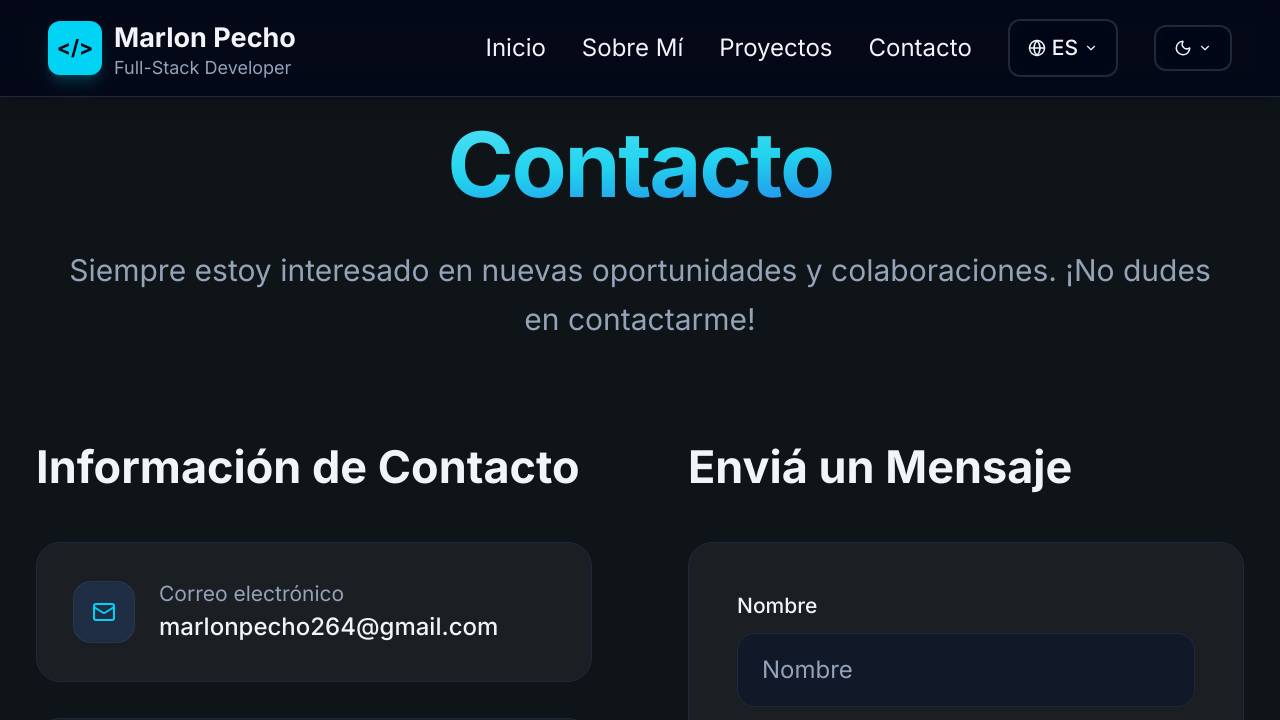
Test: Contact Form › muestra error si la API falla
In the field with id "name": (966, 670) [737,633,1195,707], type "Test User"
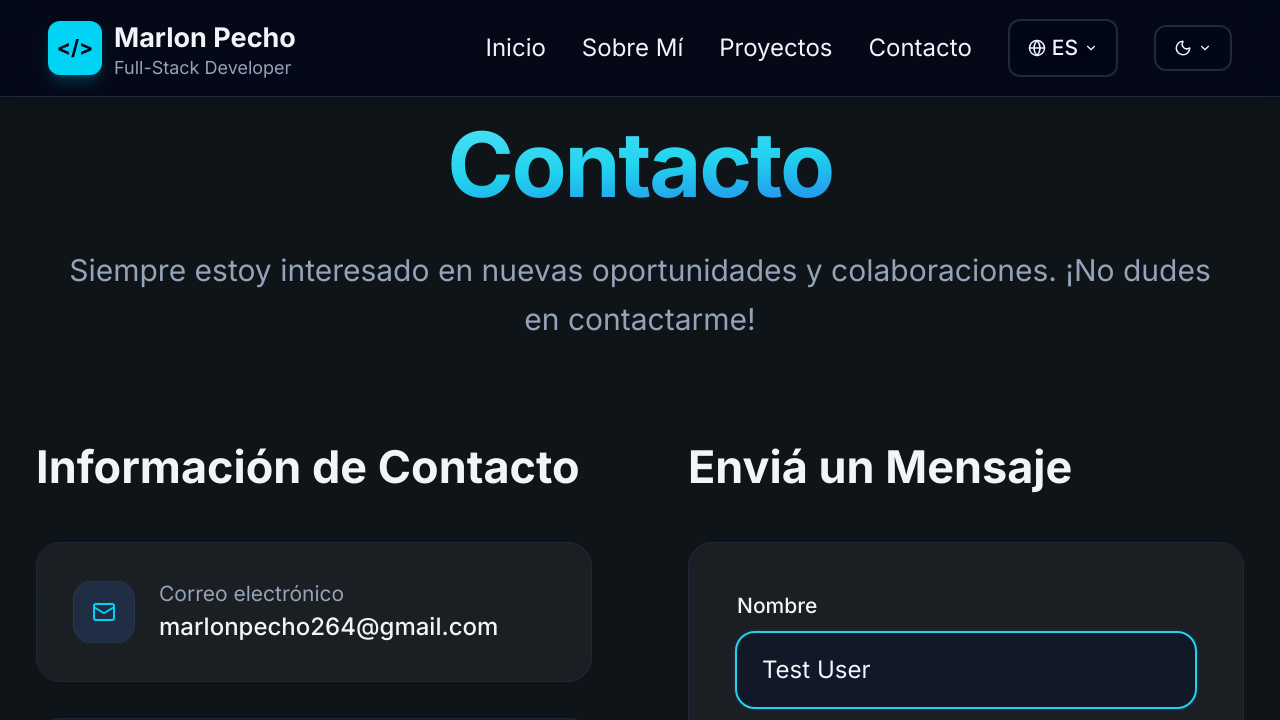
Scroll
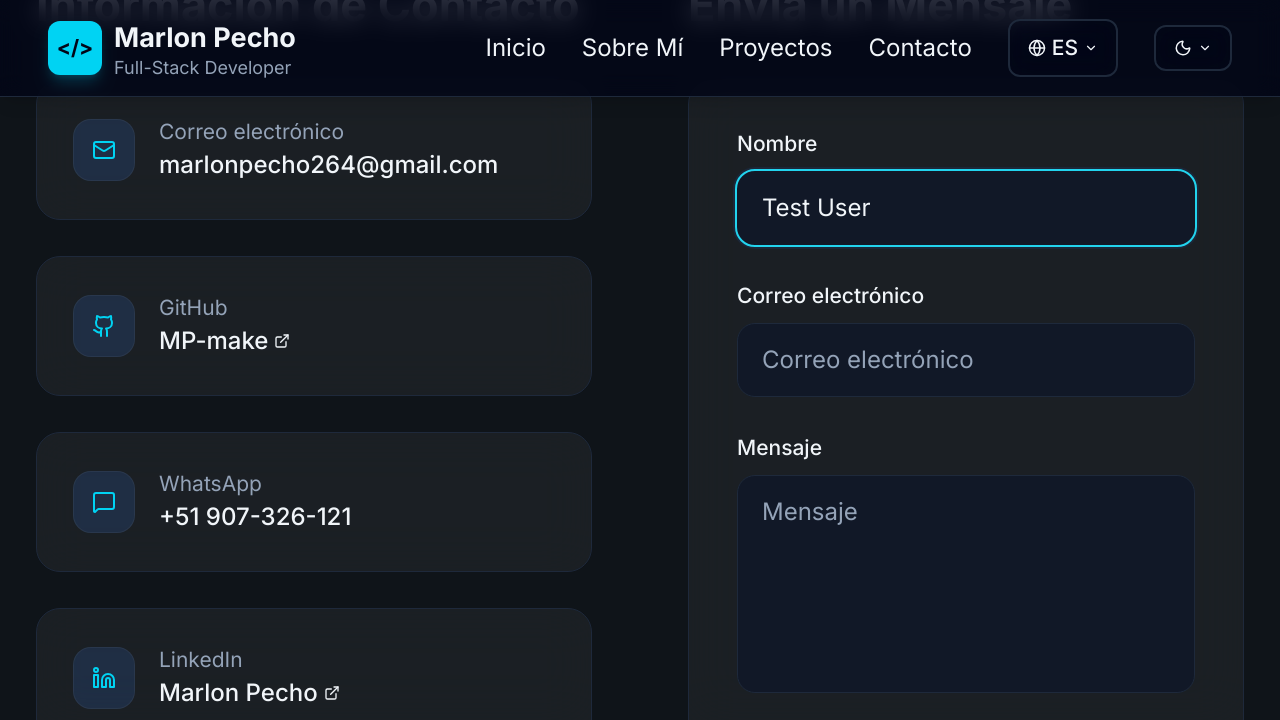
In the field with id "email": (966, 360) [737,323,1195,397], type "test@example.com"
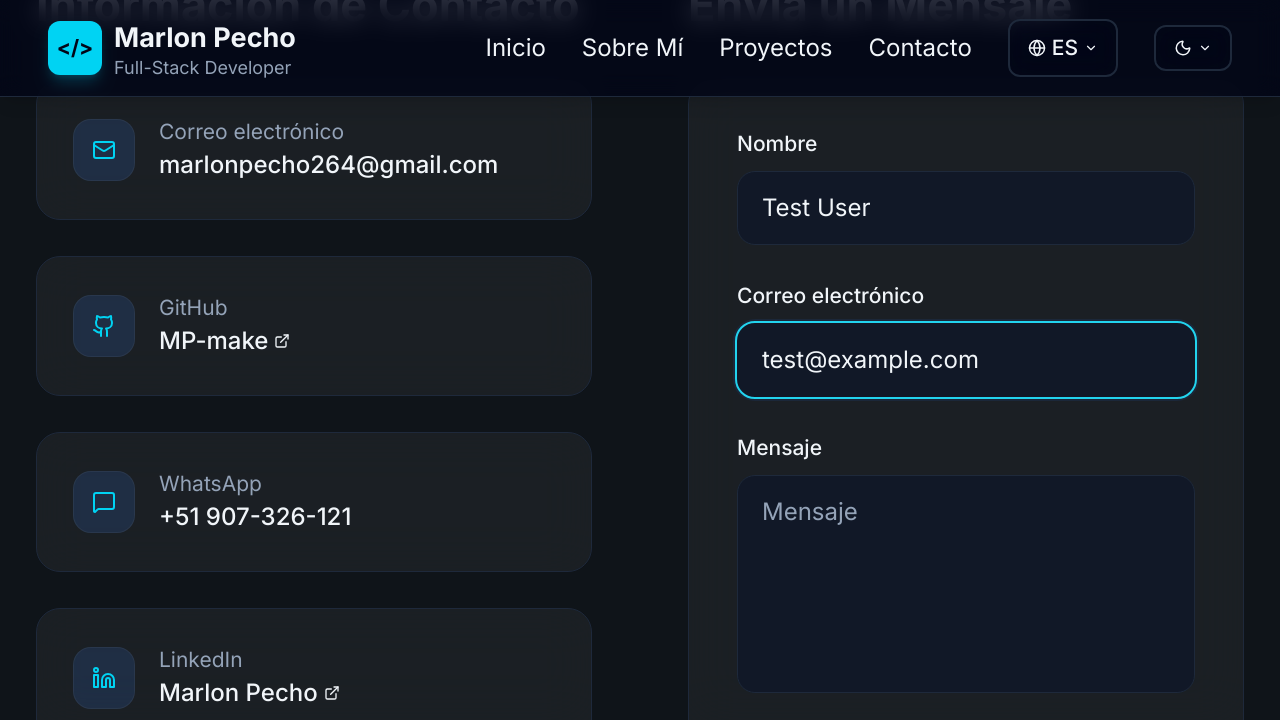
In the text box with id "message": (966, 584) [737,475,1195,693], type "Mensaje de prueba."
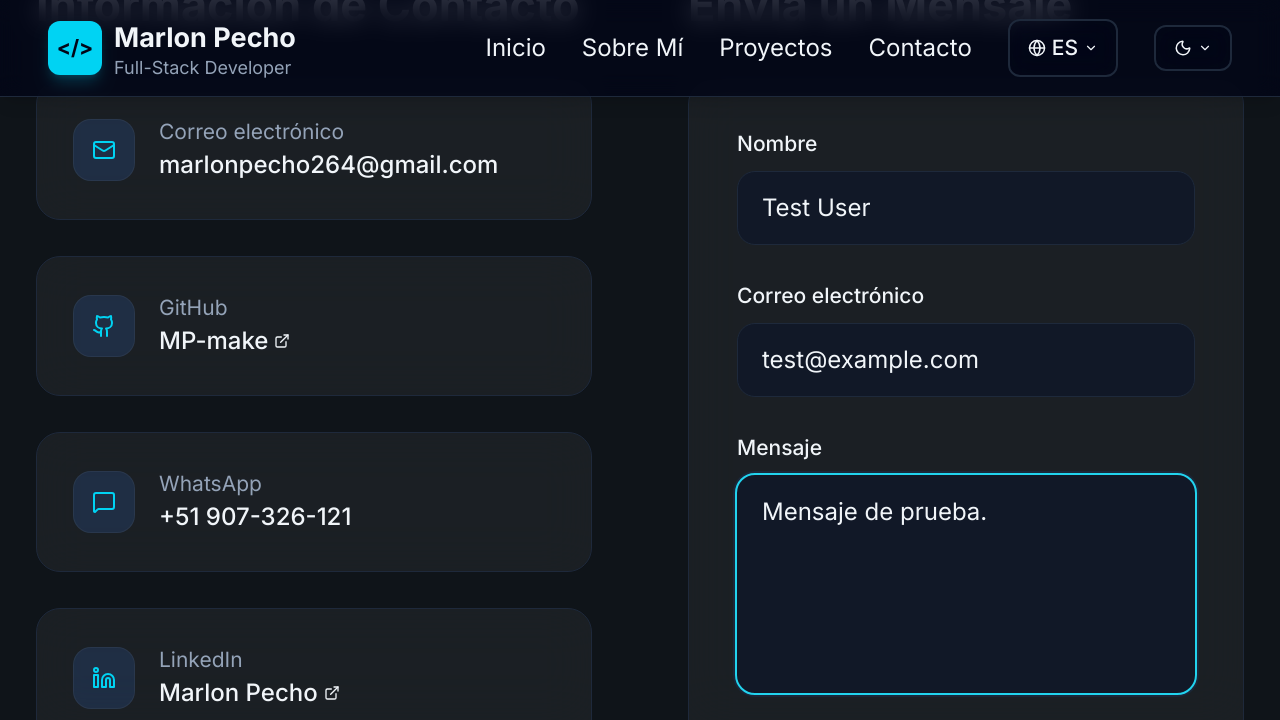
Scroll
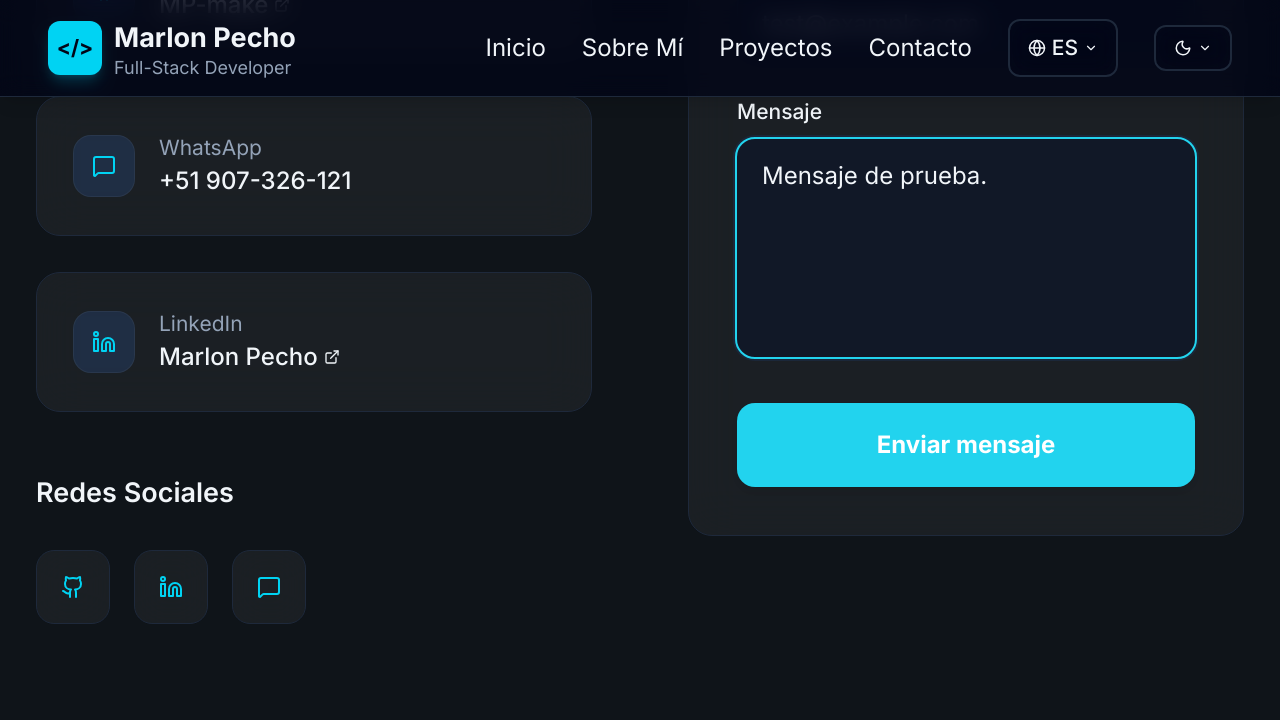
Click the submit button: click(966, 445) [737,403,1195,487]
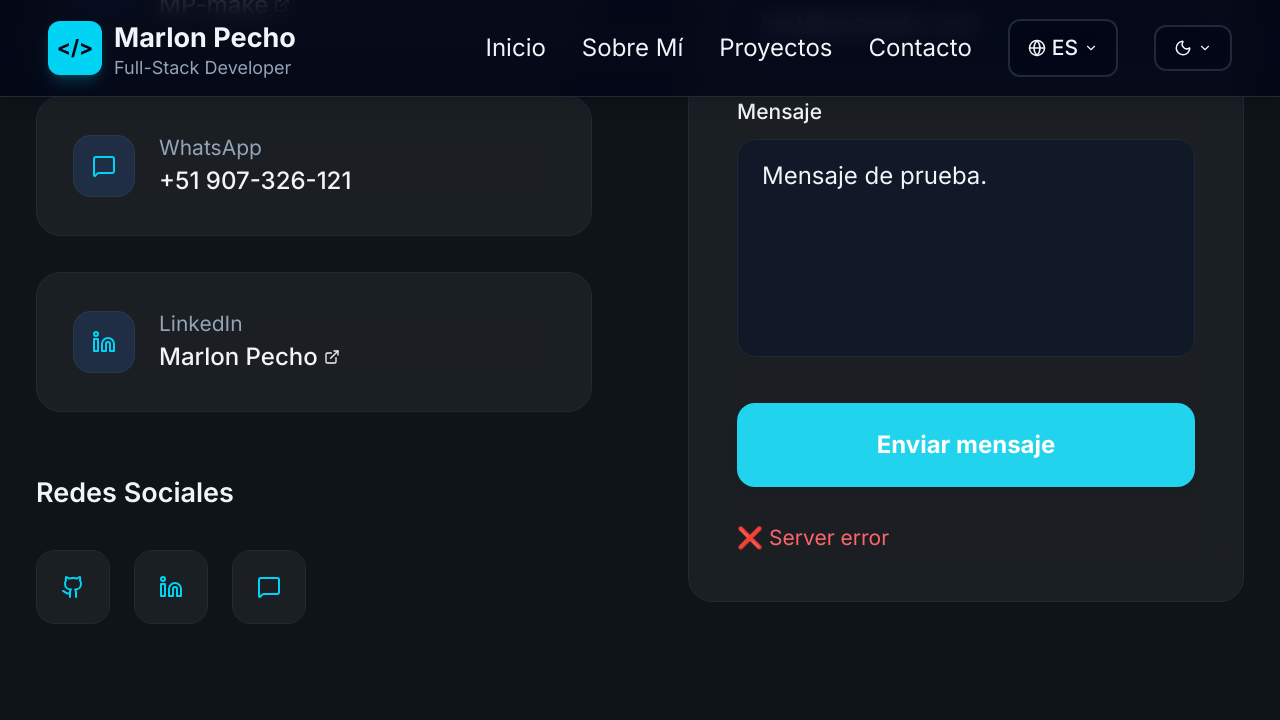
Expected: the text "❌ Server error" is shown, [737,524,889,550]
